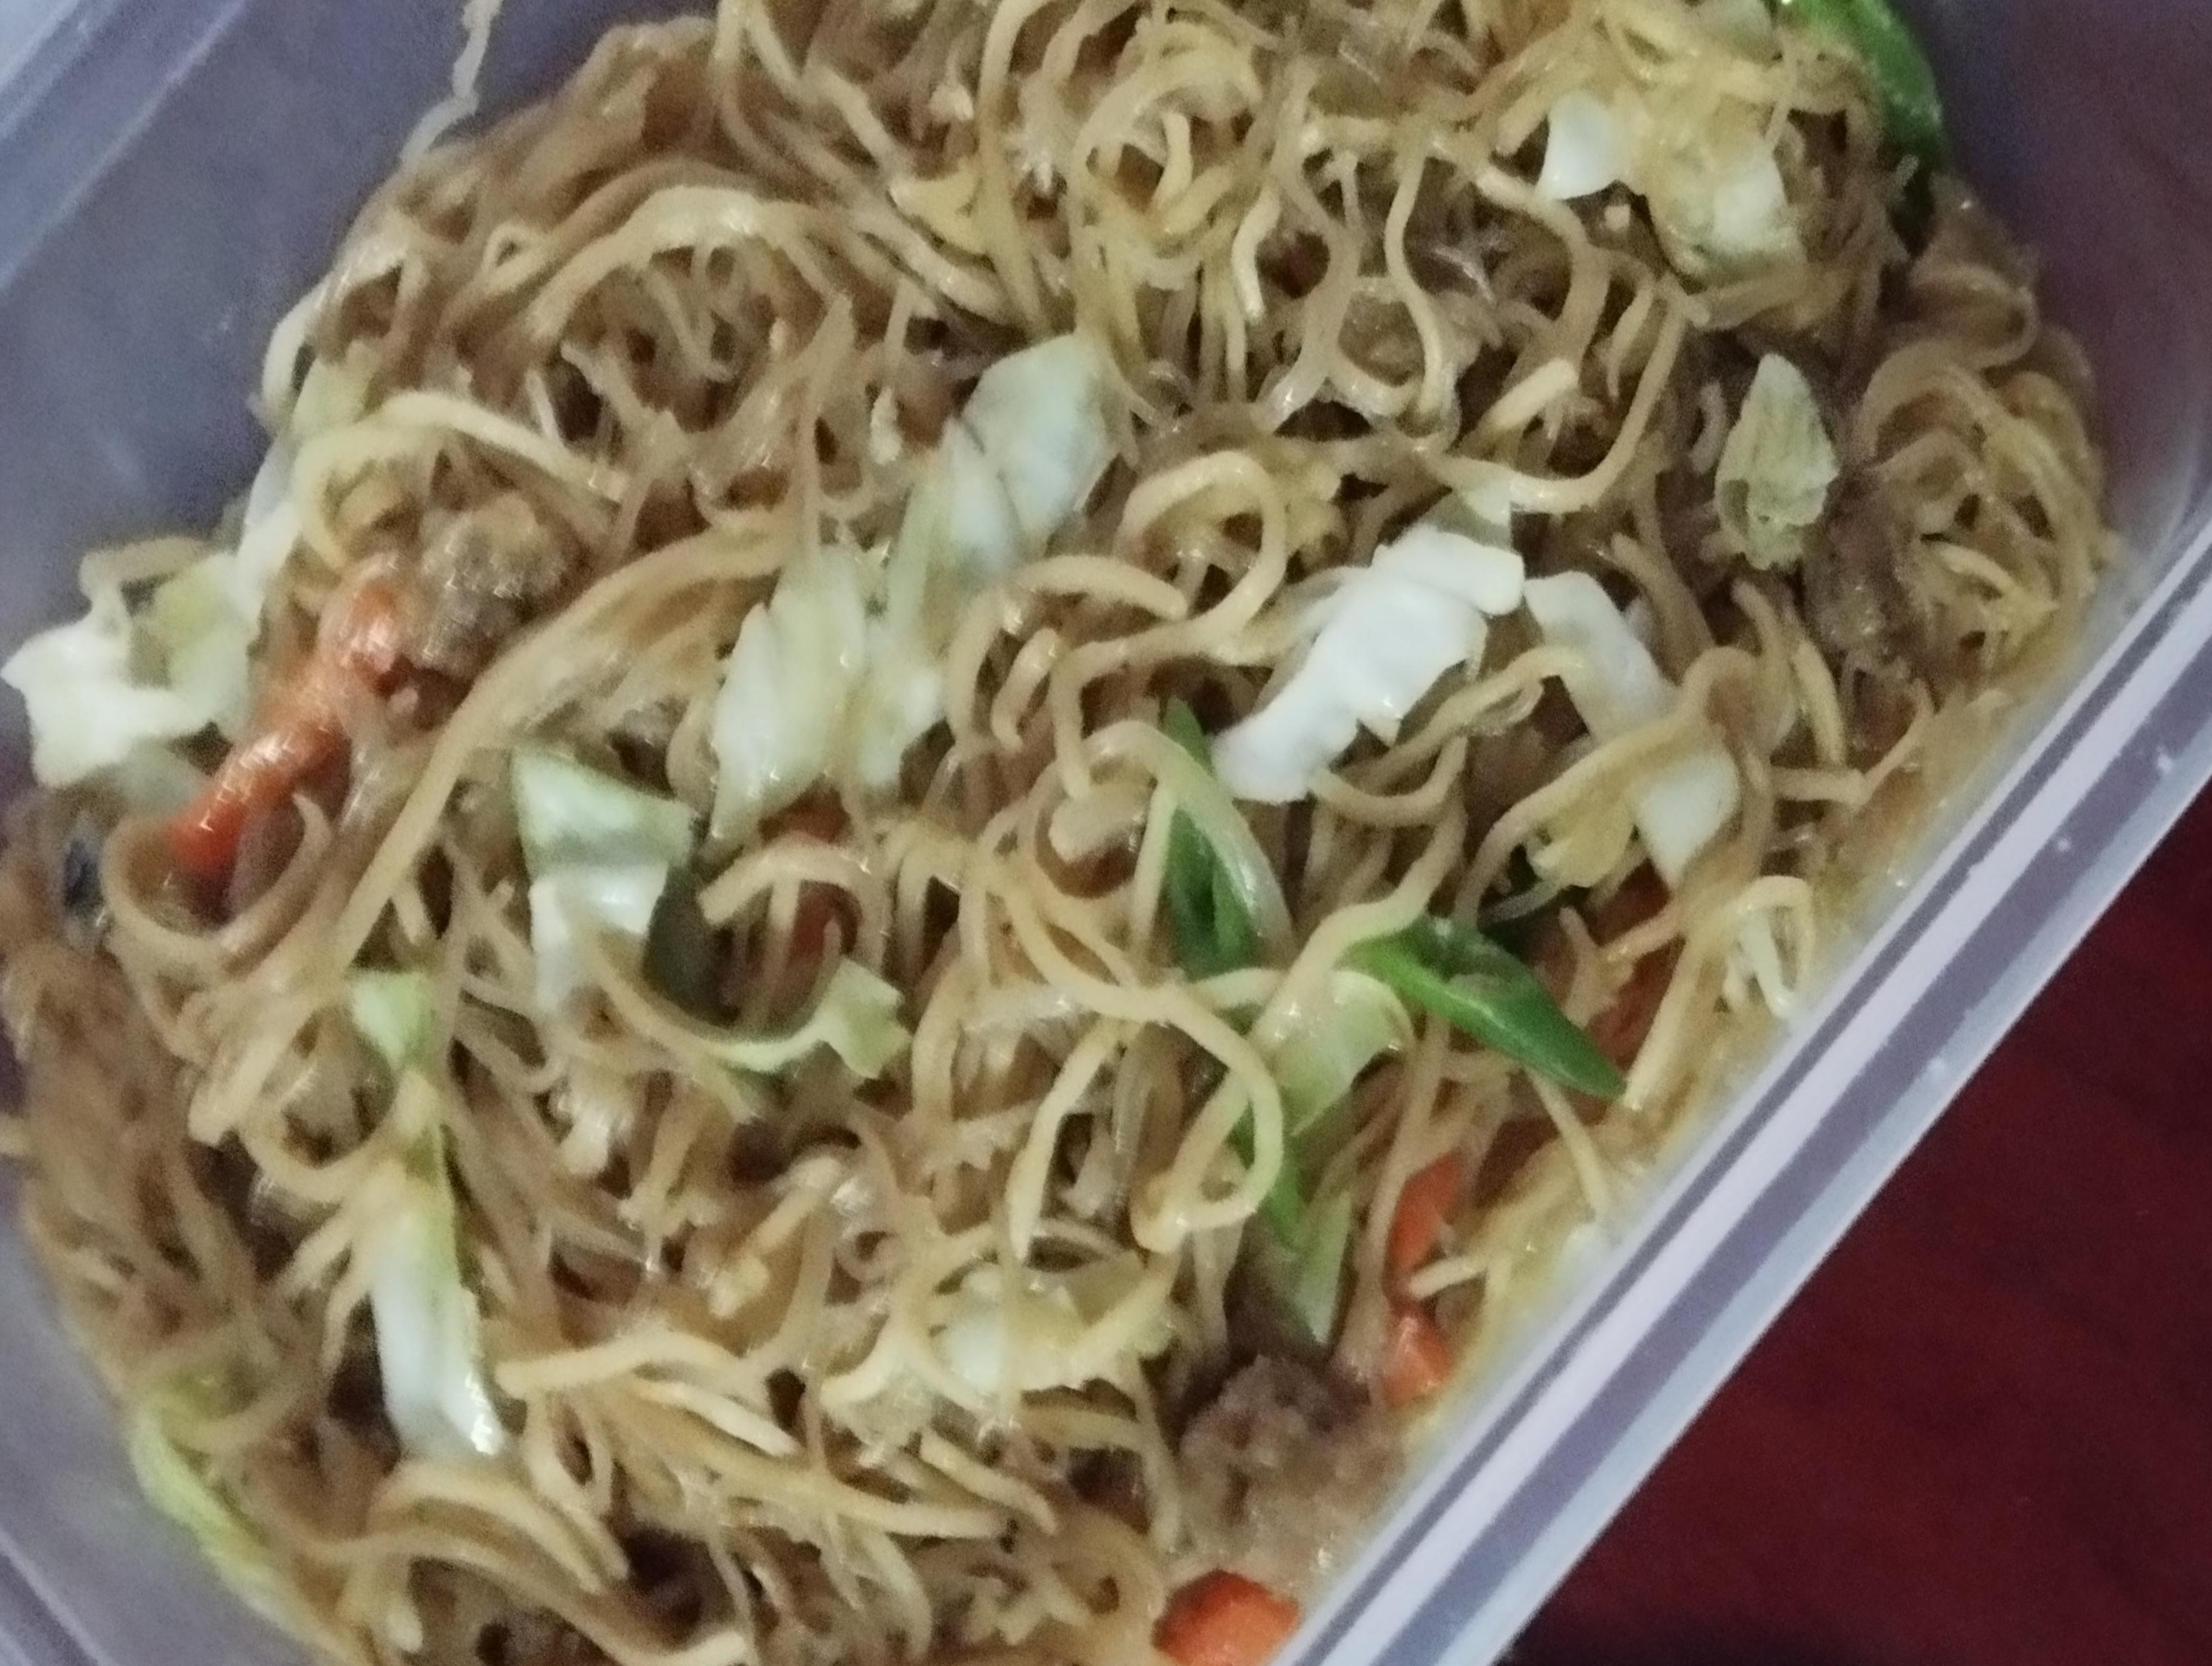pancit bihon: (0, 0, 2086, 1666)
